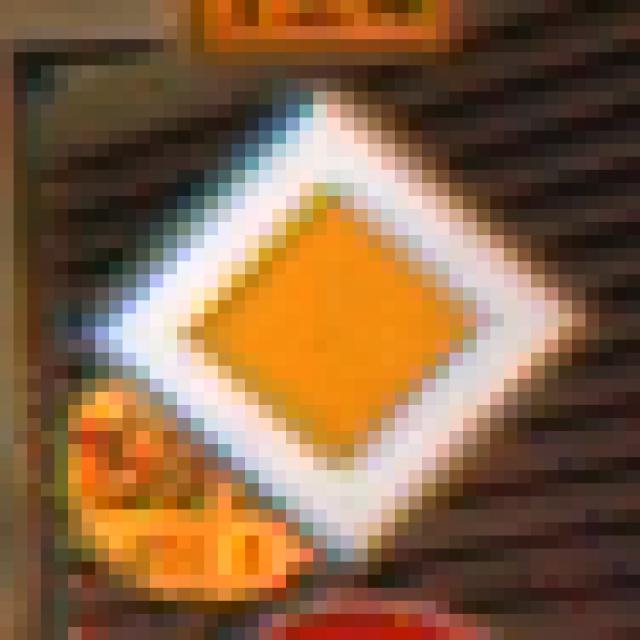Main Road: (69, 66, 573, 576)
